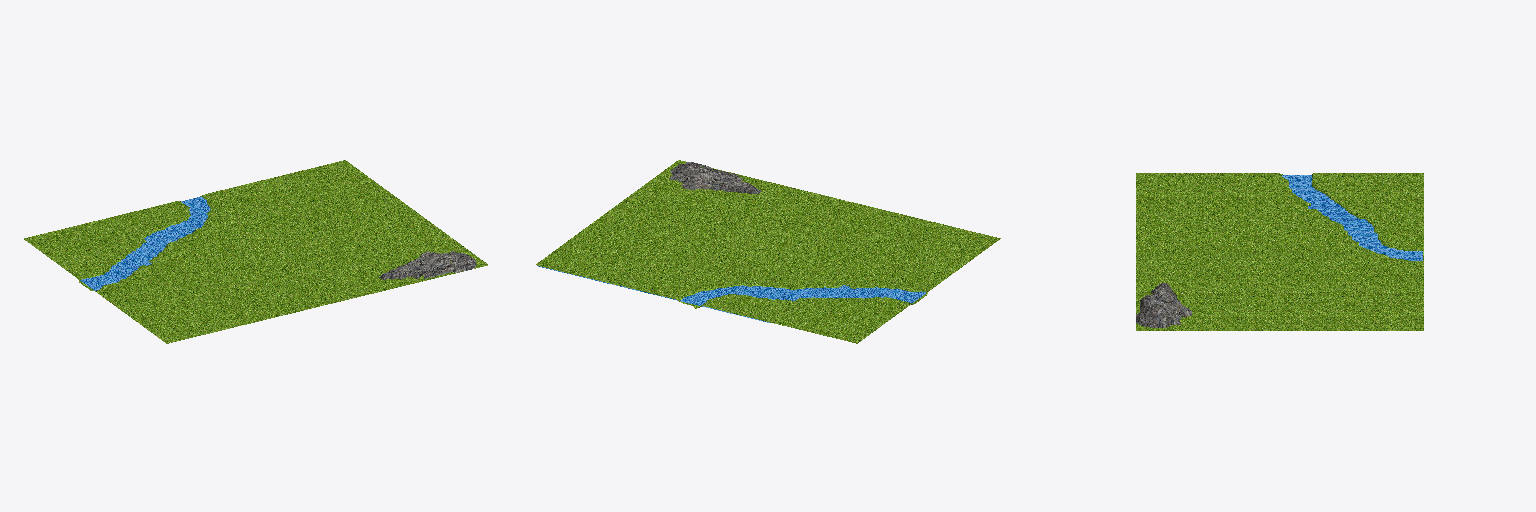
3 views of the same model, side by side, from view 1: azimuth 30°, elevation 25°; view 2: azimuth 150°, elevation 25°; view 3: azimuth 270°, elevation 25° (orthographic).
Visible parts, largest first — view 1: Plane, Plane.004_Plane.009, Plane.001; view 2: Plane, Plane.004_Plane.009, Plane.001; view 3: Plane, Plane.004_Plane.009, Plane.001.
Part boxes in pixels (x1,y1,x2,y2): Plane: (24,160,487,343); Plane.004_Plane.009: (80,198,210,290); Plane.001: (380,251,476,279); Plane: (536,160,1000,343); Plane.004_Plane.009: (682,285,925,304); Plane.001: (669,162,761,193); Plane: (1136,173,1423,330); Plane.004_Plane.009: (1282,175,1418,260); Plane.001: (1136,283,1191,327).
Size of the model in its own units: 91.22 by 5.5 by 70.52.
Materials: 4 (3 with a texture image).